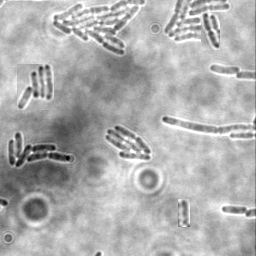Dividing: (161, 114, 255, 133), (201, 12, 220, 50), (221, 204, 248, 215)
Microcolony: (51, 1, 147, 56), (162, 1, 231, 44), (8, 130, 72, 167), (17, 64, 54, 110), (106, 124, 153, 160), (208, 63, 240, 74)
Rod: (178, 199, 190, 227)
